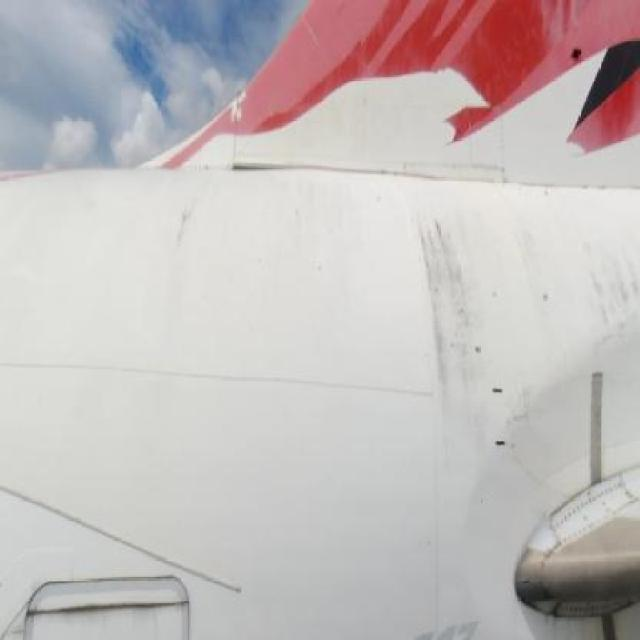Missing-Rivet: (550, 474, 632, 546), (544, 599, 633, 632)
Rust: (401, 187, 505, 495), (507, 186, 640, 361), (498, 370, 568, 465)
